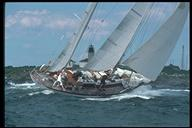sailboat: (27, 3, 192, 99)
sky: (6, 4, 52, 64)
water: (6, 98, 188, 126)
